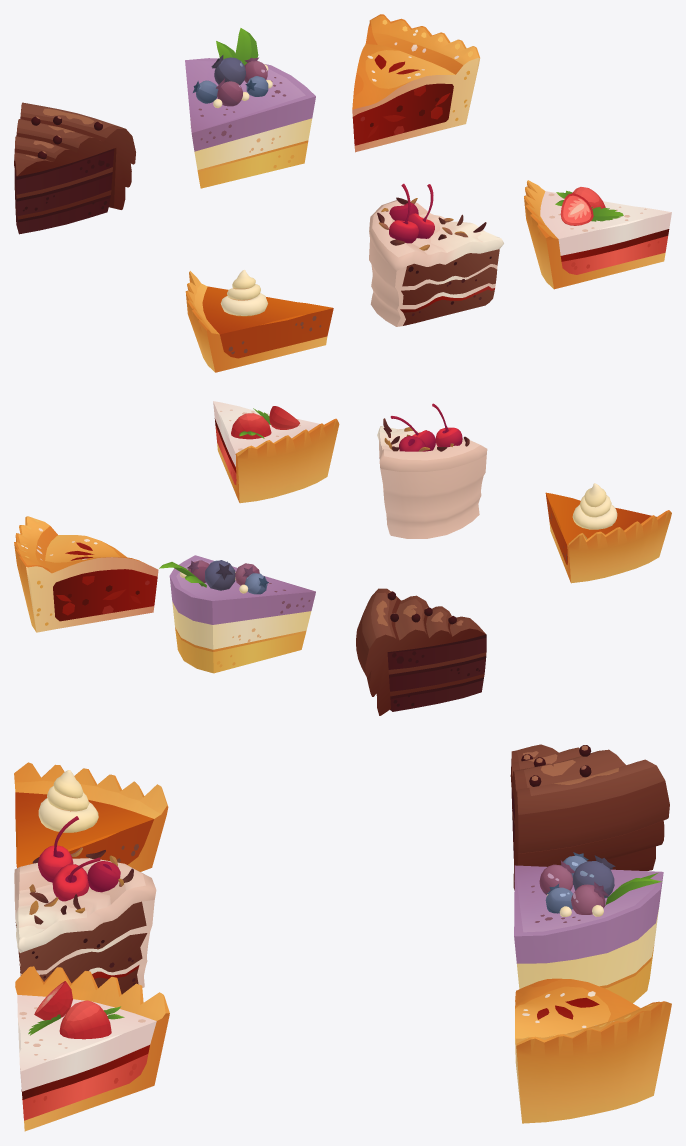
File: Cartoon_Cakes_And_Pies.glb
3 views of the same model, one above another, from view 1: azimuth 30°, elevation 25°; view 2: azimuth 150°, elevation 25°; view 3: azimuth 270°, elevation 25° (orthographic). The views are drawn at different scales.
Parts seen in each view (by area): view 1: Cake_Blueberry_Material_0, Cake_Cherry_Material_0, Cake_Cranberry_Material_0, Cake_Choco_Material_0, Cake_Strawberry_Material_0, Cake Pumpkin_Material_0; view 2: Cake_Blueberry_Material_0, Cake_Choco_Material_0, Cake_Cranberry_Material_0, Cake_Cherry_Material_0, Cake_Strawberry_Material_0, Cake Pumpkin_Material_0; view 3: Cake_Strawberry_Material_0, Cake_Cranberry_Material_0, Cake_Blueberry_Material_0, Cake_Choco_Material_0, Cake_Cherry_Material_0, Cake Pumpkin_Material_0.
Part boxes in pixels (x1,y1,x2,y2): Cake_Blueberry_Material_0: [185, 28, 315, 188]; Cake_Cherry_Material_0: [369, 183, 503, 326]; Cake_Cranberry_Material_0: [352, 14, 480, 152]; Cake_Choco_Material_0: [14, 102, 135, 234]; Cake_Strawberry_Material_0: [524, 180, 671, 289]; Cake Pumpkin_Material_0: [185, 270, 333, 372]; Cake_Blueberry_Material_0: [159, 555, 315, 673]; Cake_Choco_Material_0: [356, 588, 486, 715]; Cake_Cranberry_Material_0: [14, 516, 158, 632]; Cake_Cherry_Material_0: [377, 403, 487, 538]; Cake_Strawberry_Material_0: [213, 401, 339, 503]; Cake Pumpkin_Material_0: [545, 483, 671, 583]; Cake_Strawberry_Material_0: [15, 966, 169, 1131]; Cake_Cranberry_Material_0: [515, 978, 671, 1123]; Cake_Blueberry_Material_0: [514, 852, 663, 1003]; Cake_Choco_Material_0: [510, 744, 669, 890]; Cake_Cherry_Material_0: [14, 816, 156, 994]; Cake Pumpkin_Material_0: [14, 762, 168, 871].
Size of the model in its own units: 4.86 by 1.21 by 4.47.
1 material, 1 textured.
